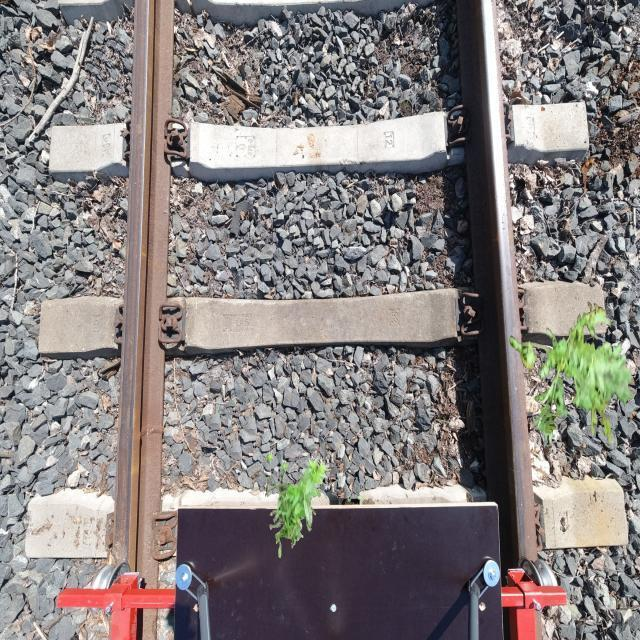Plant: (510, 302, 635, 449), (265, 451, 330, 558), (538, 404, 562, 434)
